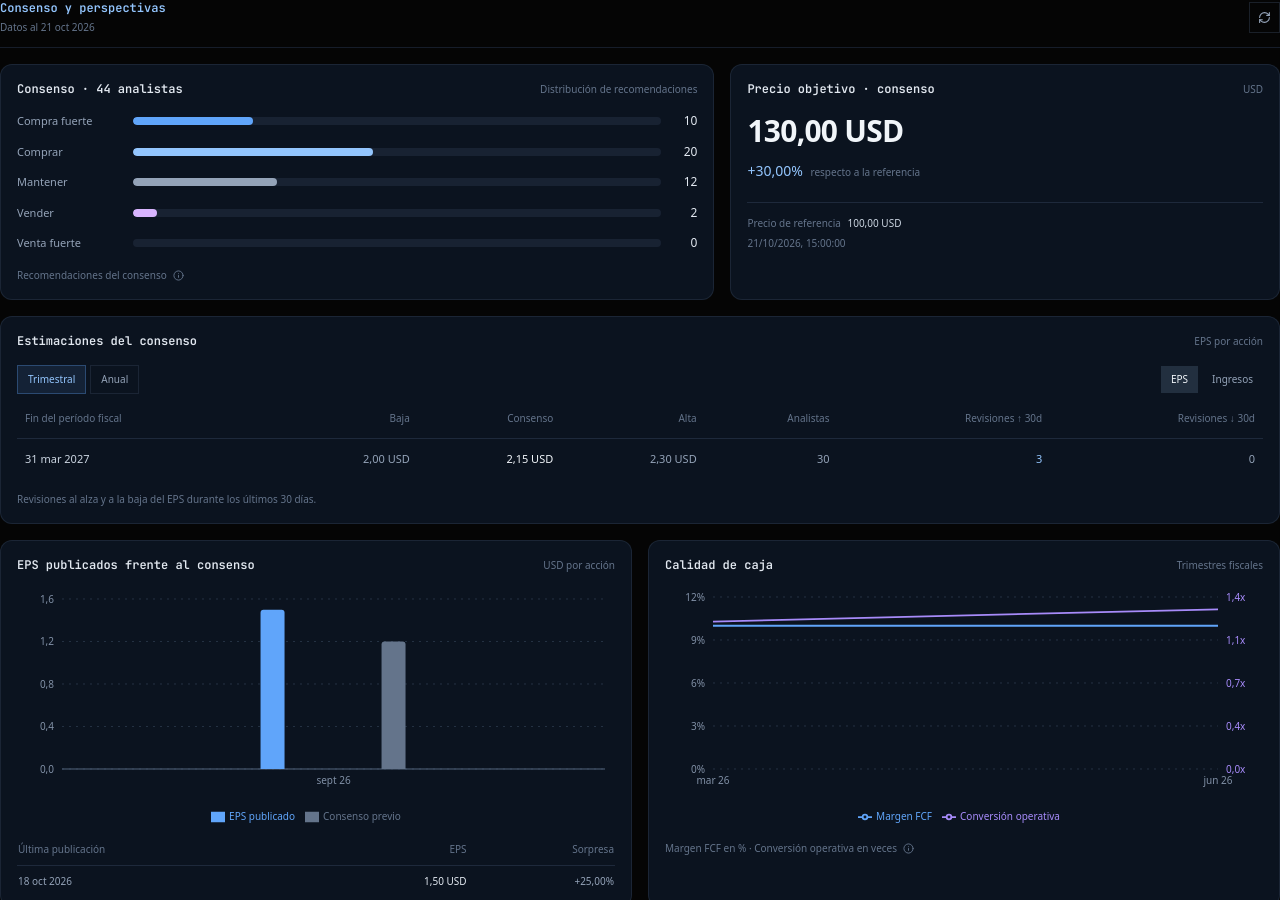
shows actual analyst coverage, estimates and published earnings as distinct dated information
This screenshot has width=1280, height=900.
Expected: the heading "Consenso · 44 analistas" is shown, x1=17 y1=81 x2=183 y2=97
Expected: the text "130,00 USD" is shown, x1=747 y1=110 x2=904 y2=151
Click the button "Anual" at (115, 379), box x1=90 y1=364 x2=139 y2=394
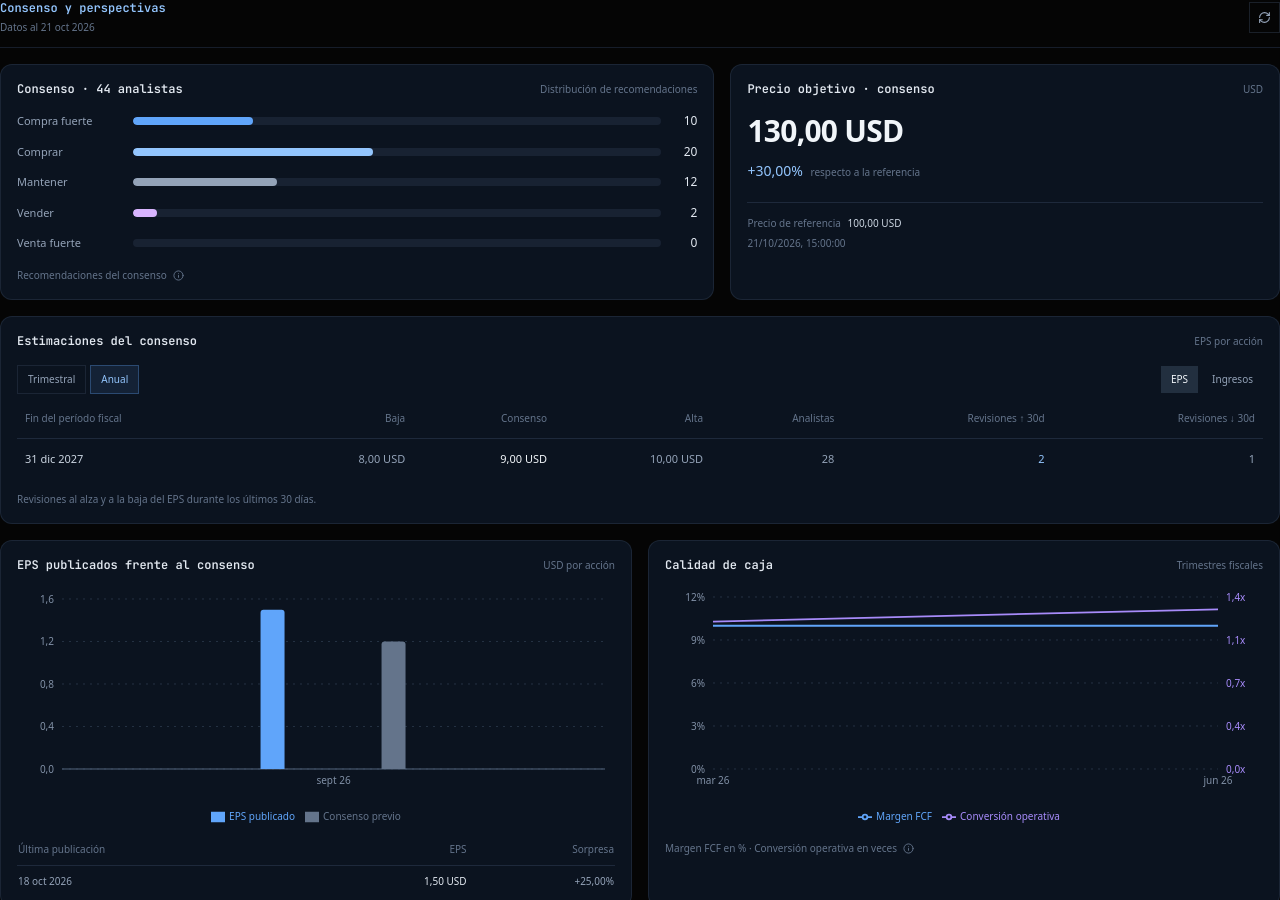
Now the table named "Estimaciones de EPS" shows "9,00 USD", box x1=500 y1=450 x2=547 y2=466
Click the button "Ingresos" at (1233, 379), box x1=1202 y1=366 x2=1263 y2=392
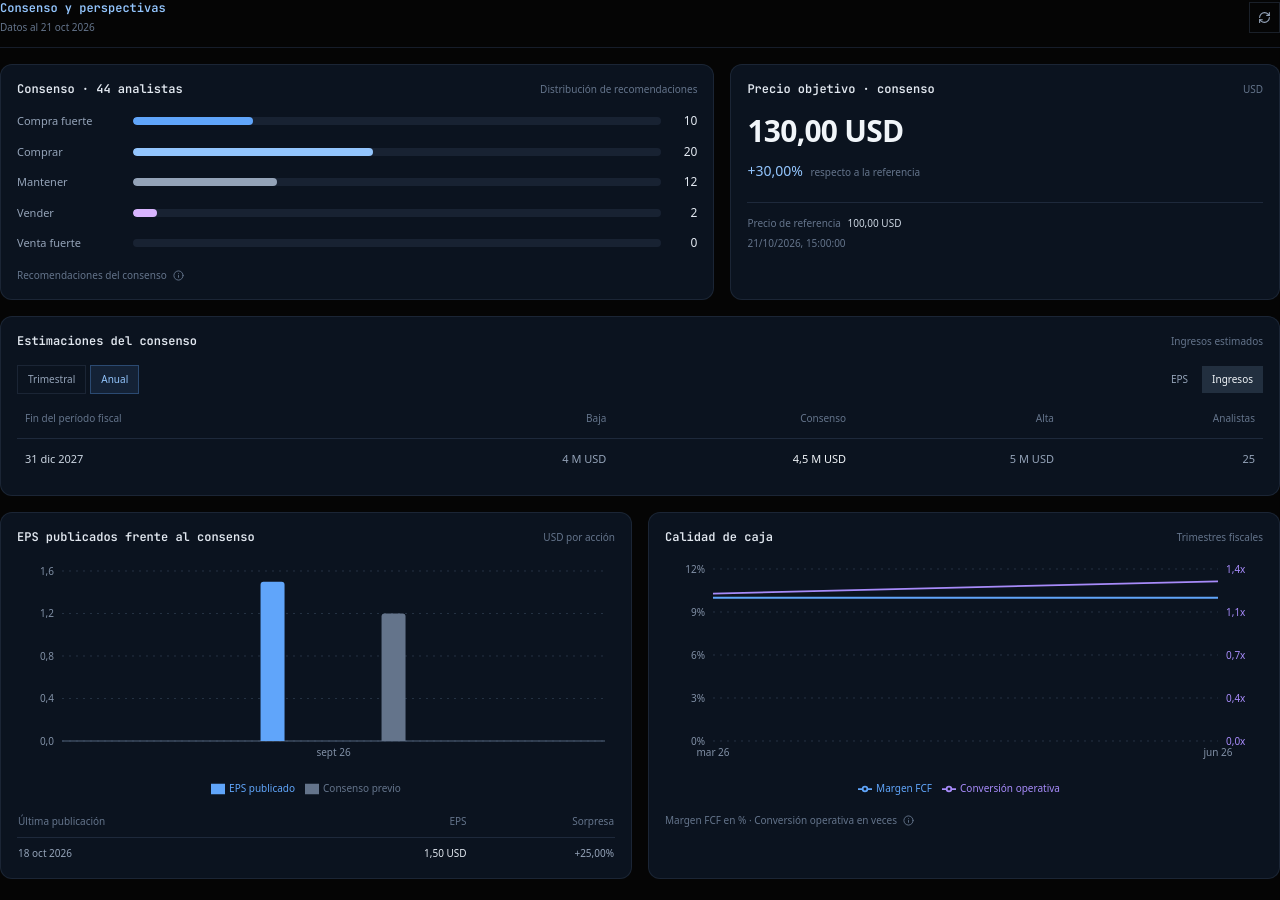
Now the table named "Estimaciones de ingresos" shows "4,5 M USD", box x1=793 y1=450 x2=846 y2=466
